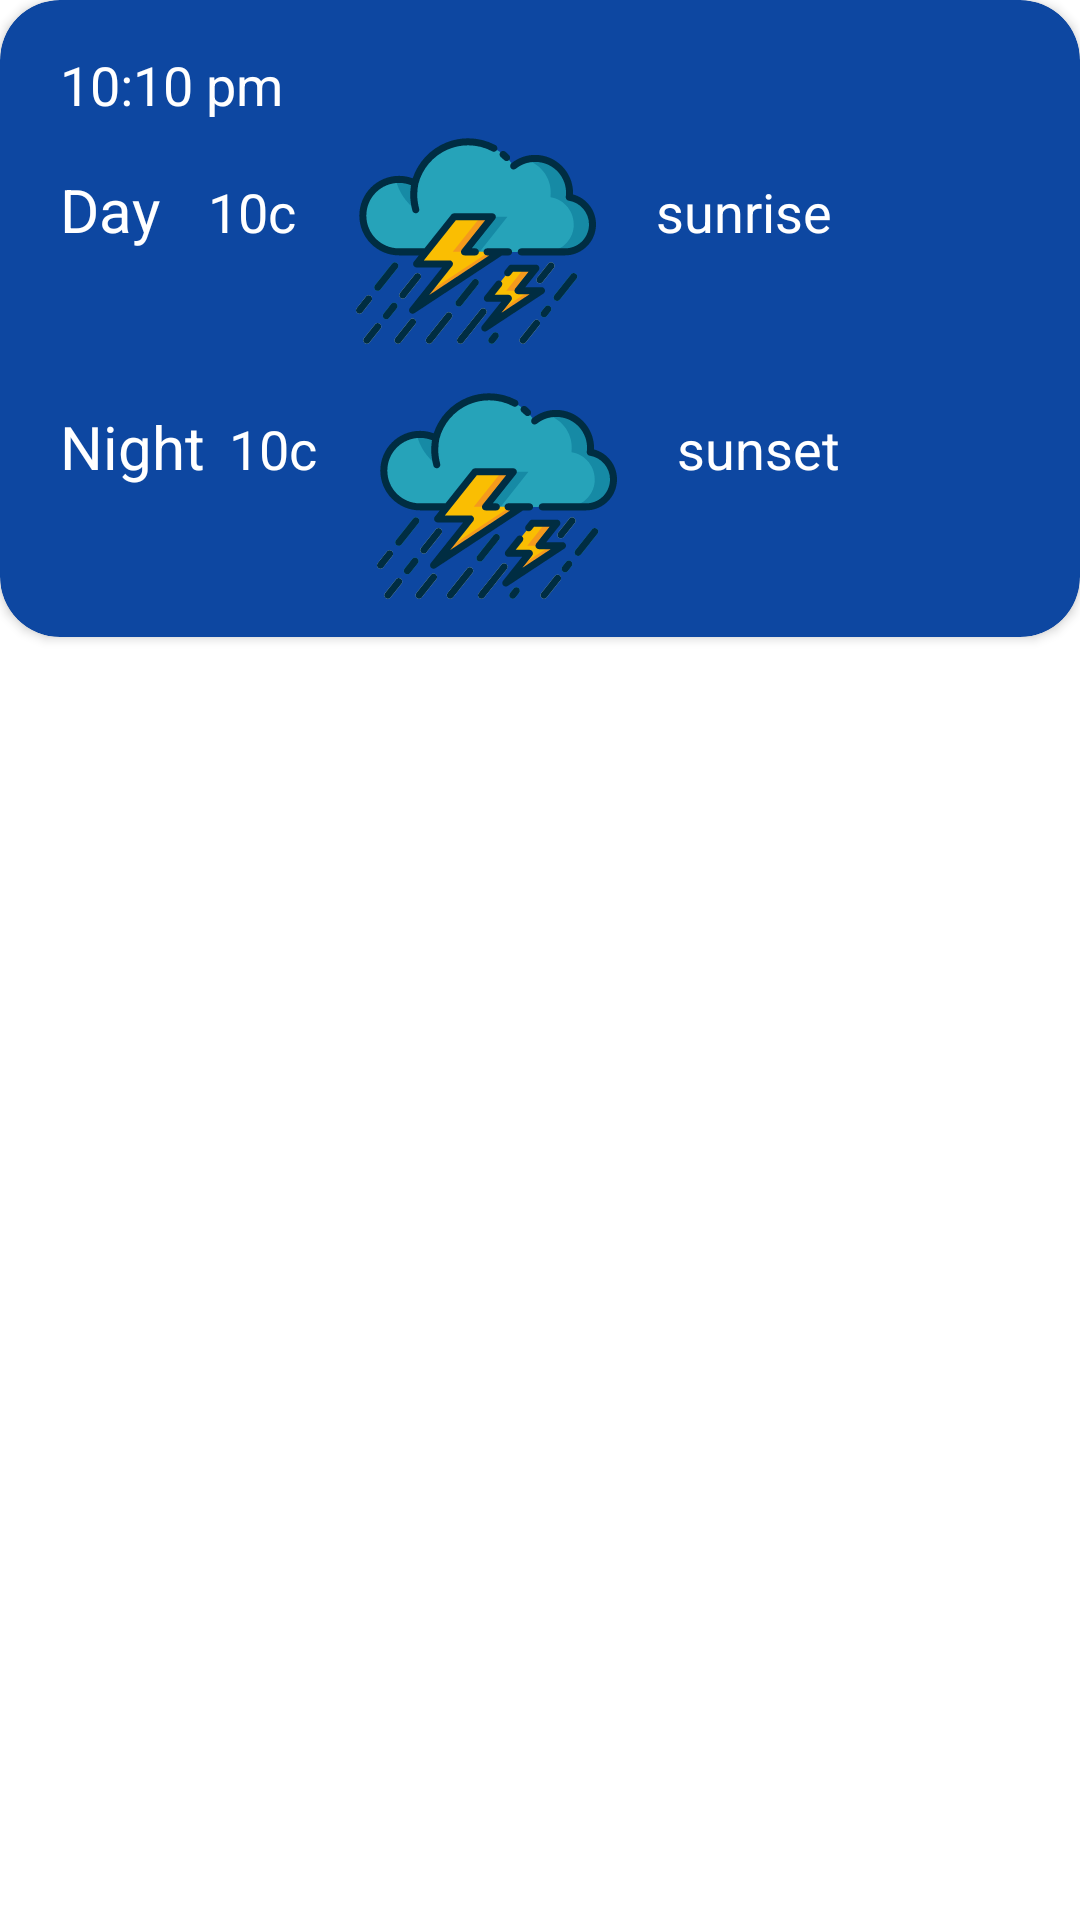

Named icons in this screenshot (1080px×1920px) and their bounding boxes, {"left": x1, "top": y1, "right": x2, "bottom": y2}:
thunderstorm: {"left": 356, "top": 138, "right": 596, "bottom": 344}, {"left": 377, "top": 393, "right": 617, "bottom": 599}
